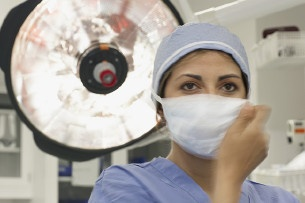Mask: (165, 68, 254, 156)
